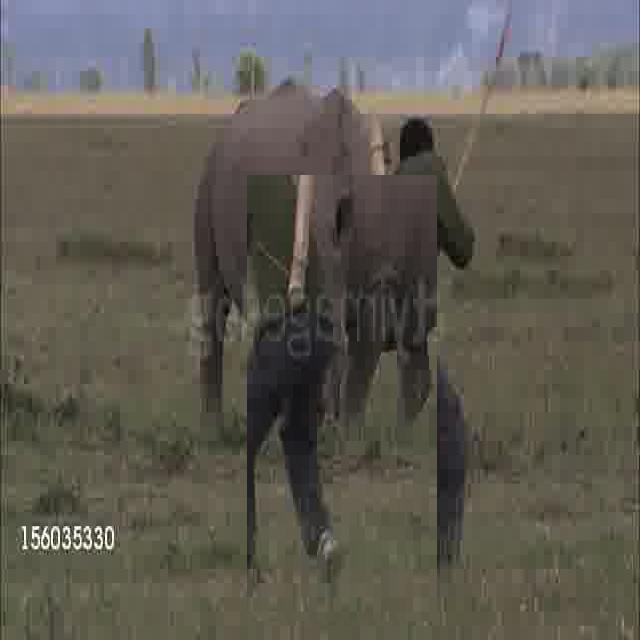poacher: (248, 175, 438, 621)
weapon: (98, 214, 309, 291)
